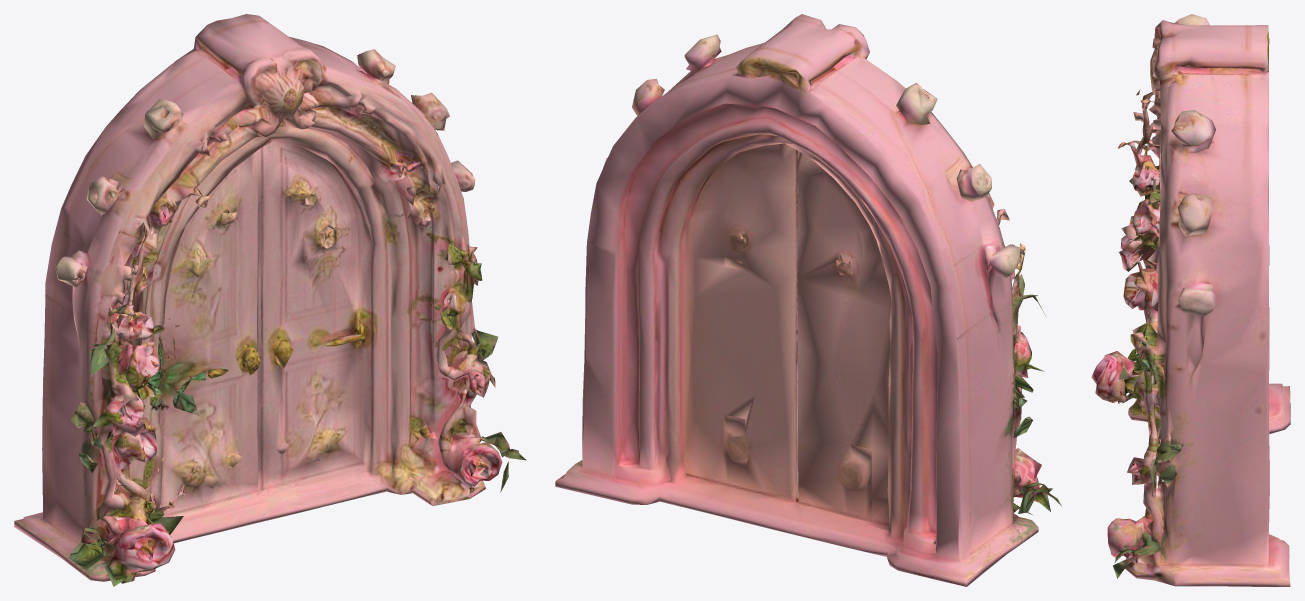
File: _Object_Ornate_2.glb
3 views of the same model, side by side, from view 1: azimuth 30°, elevation 25°; view 2: azimuth 150°, elevation 25°; view 3: azimuth 270°, elevation 25° (orthographic). The views are drawn at different scales.
Visible parts, largest first — view 1: _Object_Ornate_2; view 2: _Object_Ornate_2; view 3: _Object_Ornate_2.
Part boxes in pixels (box(x1,y1,x2,y2)): _Object_Ornate_2: box(14, 14, 526, 586); _Object_Ornate_2: box(555, 14, 1061, 586); _Object_Ornate_2: box(1091, 14, 1290, 586).
Size of the model in its own units: 1.98 by 2 by 0.7914.
Materials: 1 (1 with a texture image).
